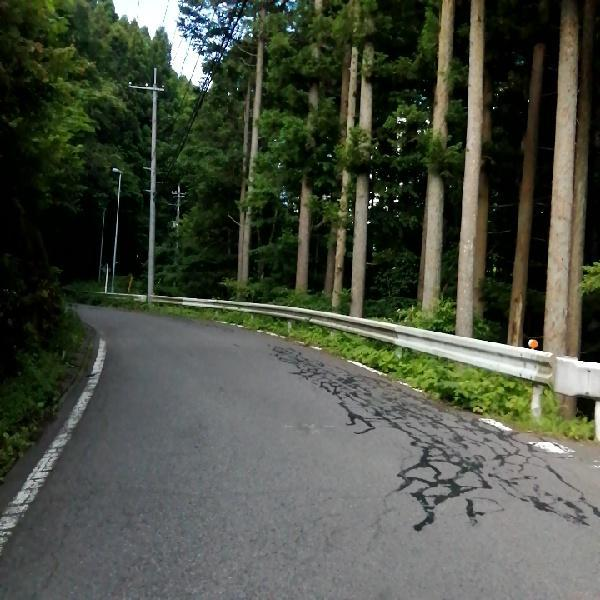D20: (286, 363, 597, 533), (267, 347, 426, 423)
